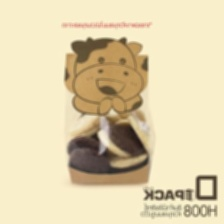snack: (55, 31, 163, 191)
